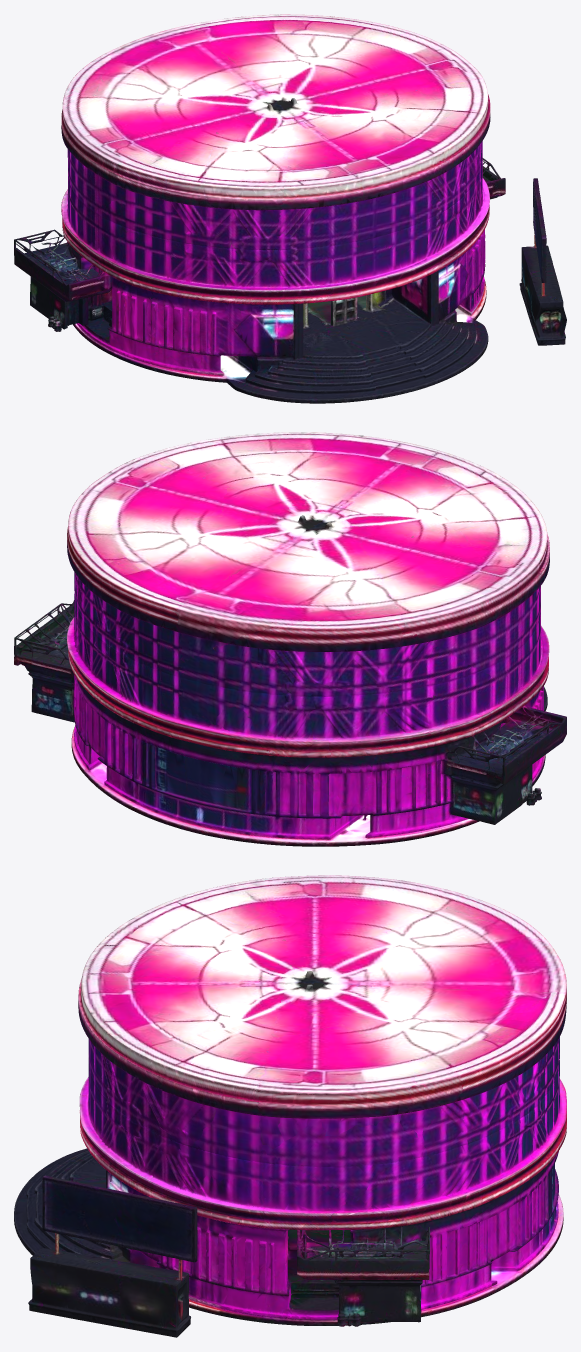
Rendered from b3_holo_club_runtime.glb.
3 renders of one model, top to bottom at view 1: azimuth 30°, elevation 25°; view 2: azimuth 150°, elevation 25°; view 3: azimuth 270°, elevation 25°, orthographic. The views are drawn at different scales.
Bounding box in the file's own units: 1.9 × 0.8377 × 1.74.
1 material, 1 textured.
